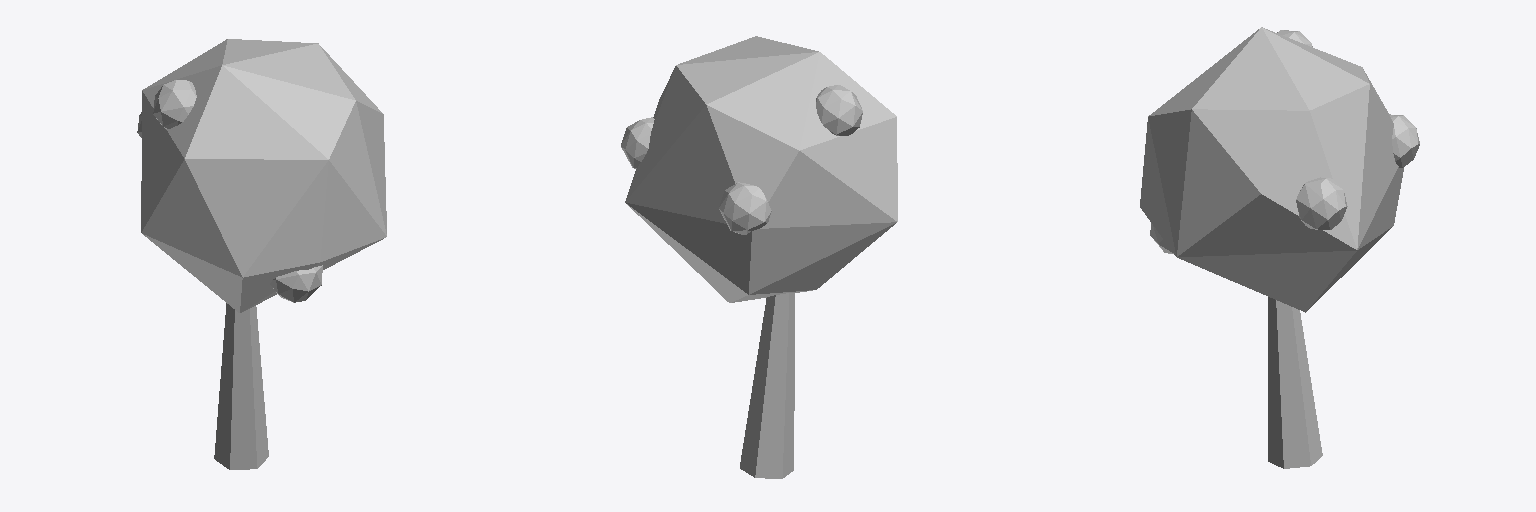
The model's file is Tree.obj.
3 views of the same model, side by side, from view 1: azimuth 30°, elevation 25°; view 2: azimuth 150°, elevation 25°; view 3: azimuth 270°, elevation 25° (orthographic).
Size of the model in its own units: 0.5129 by 0.8337 by 0.5094.